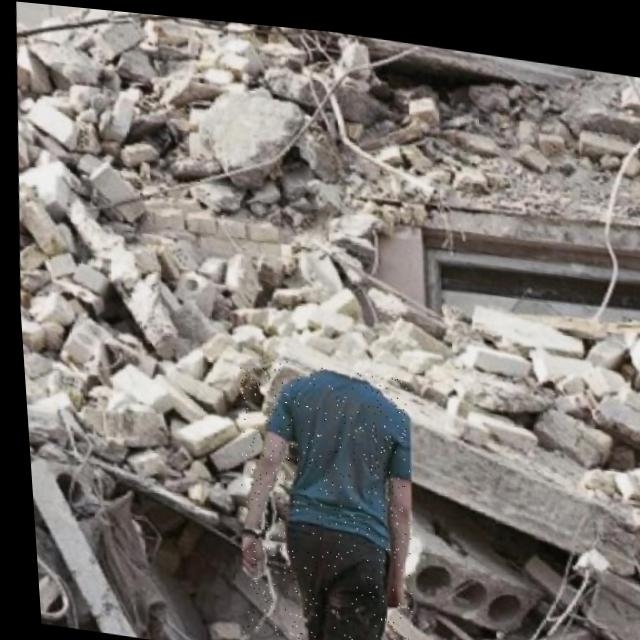Person in Rubble: (217, 348, 421, 640)
